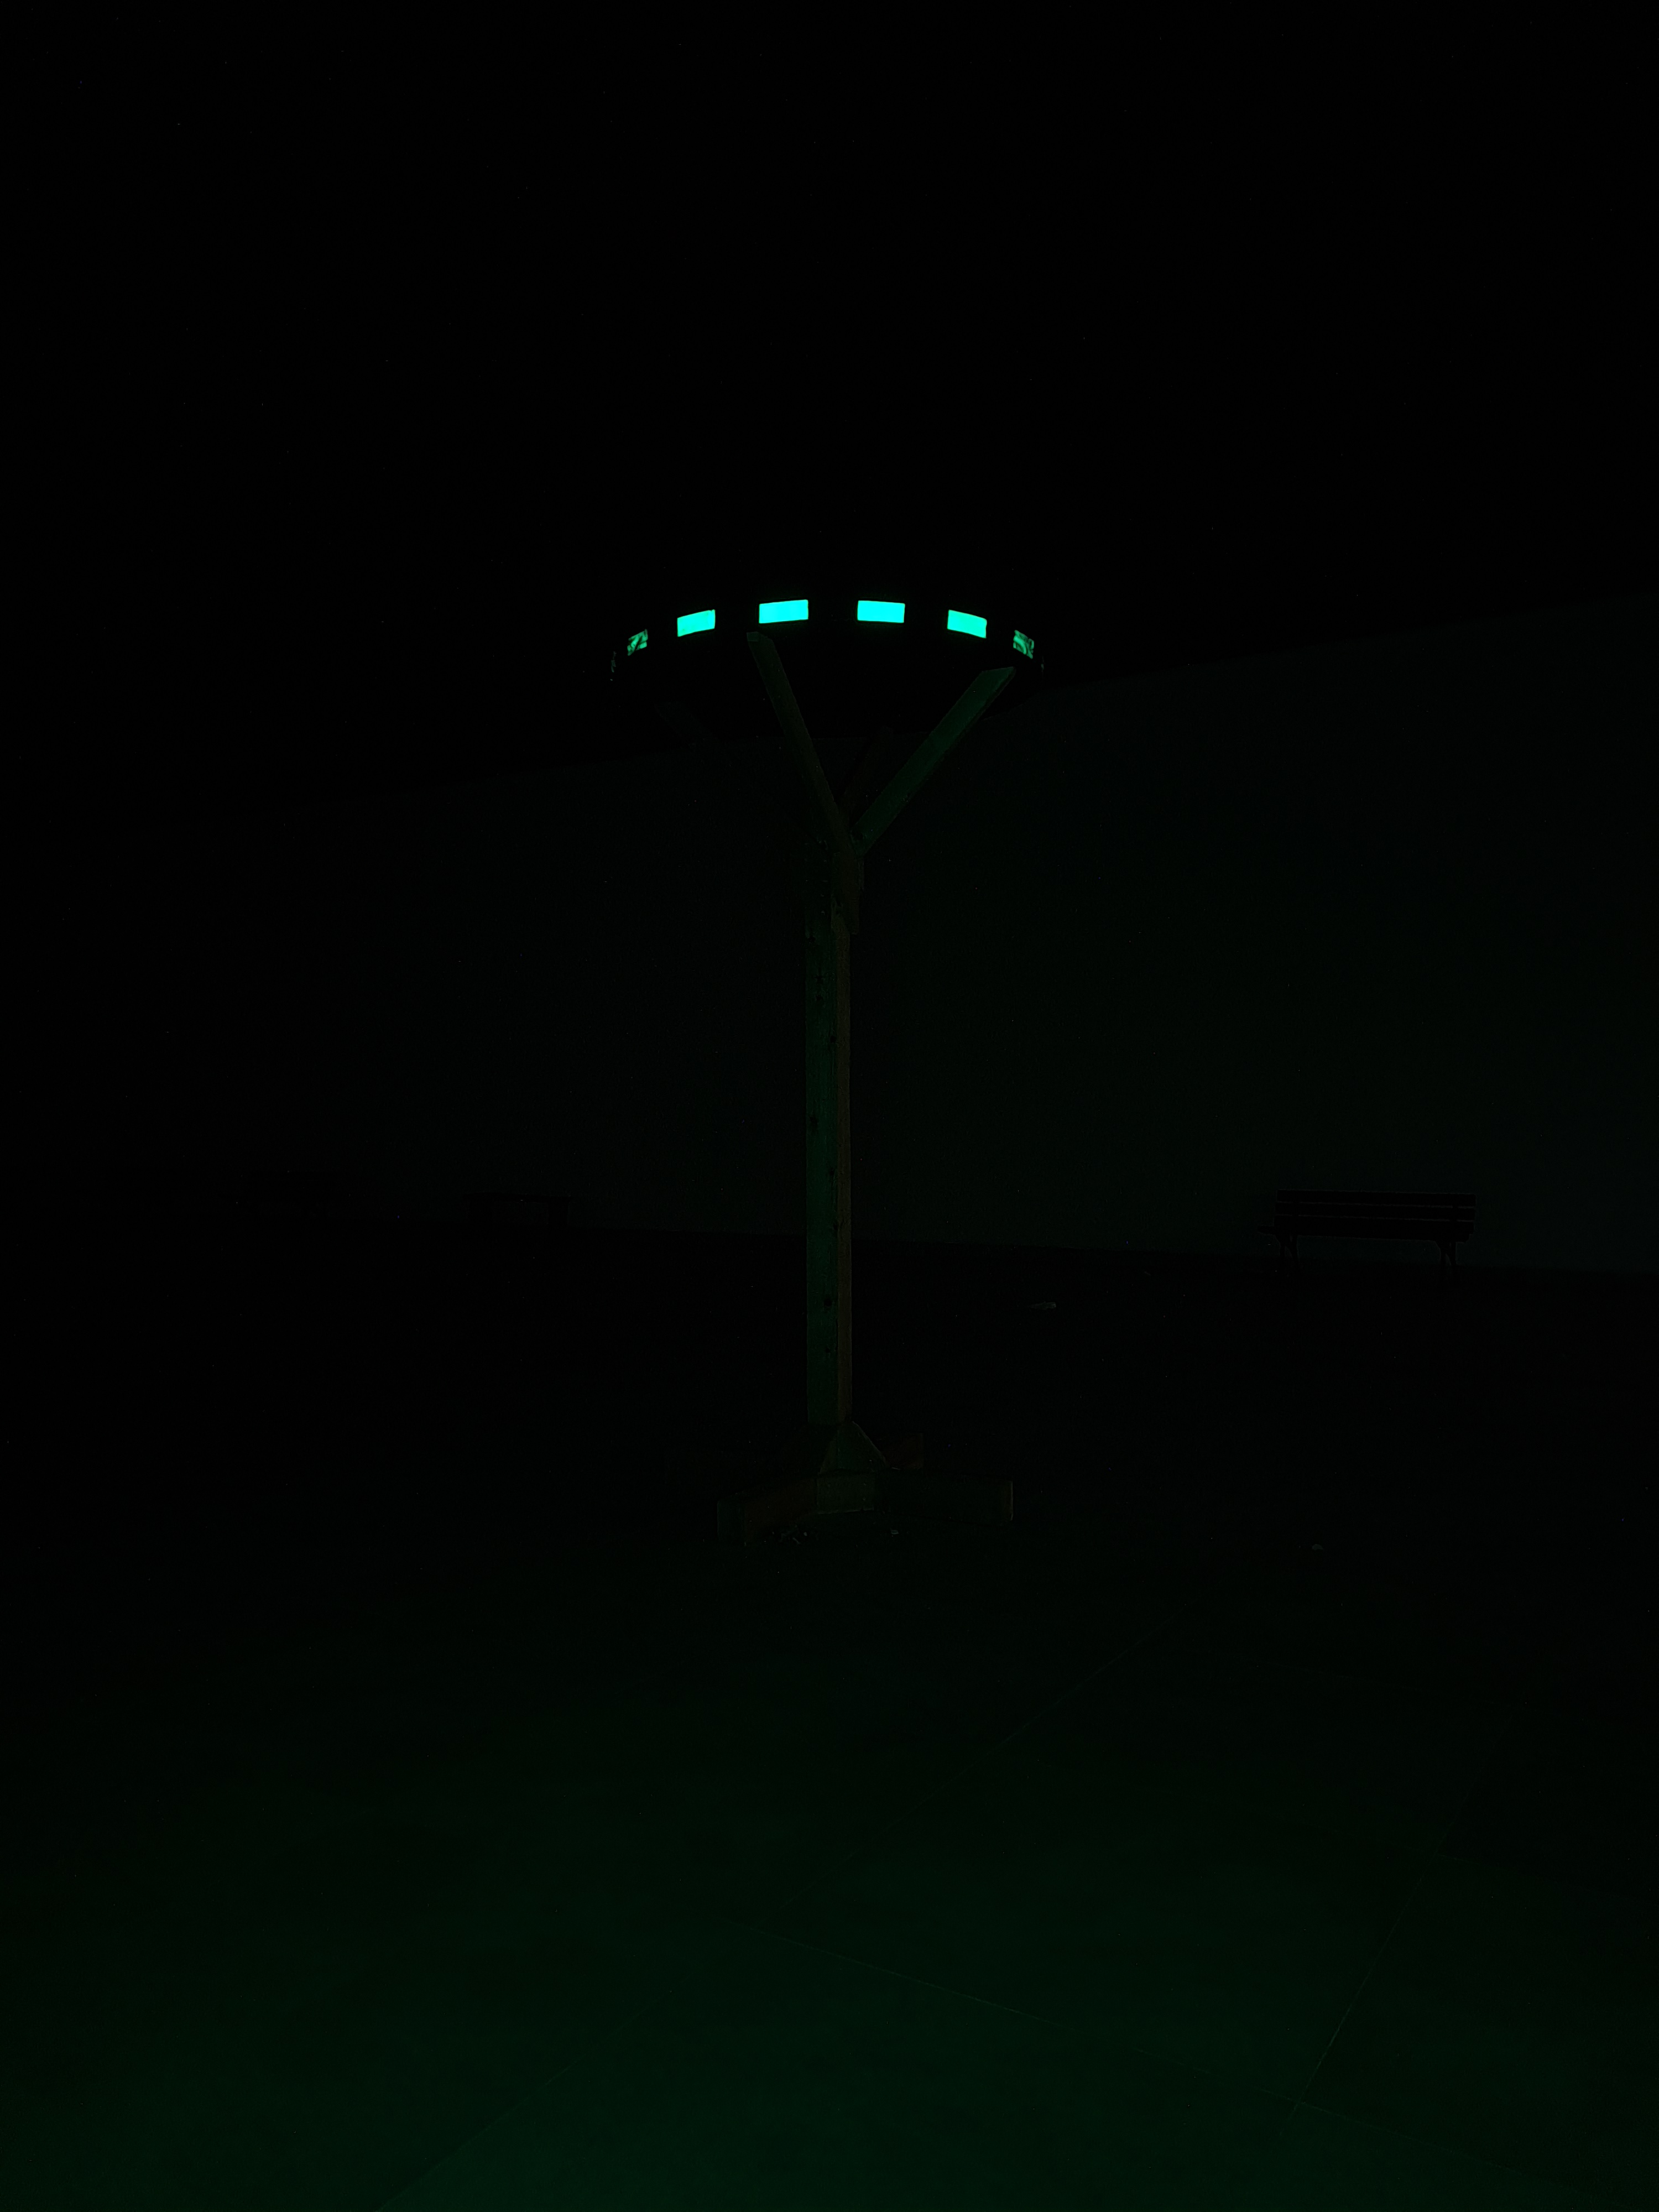hoop: (624, 596, 1037, 664)
